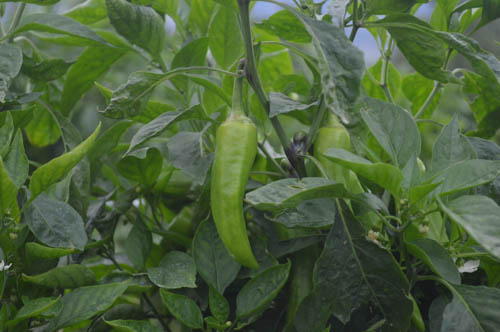ChiliPepper: (213, 122, 260, 269), (316, 126, 353, 189)
